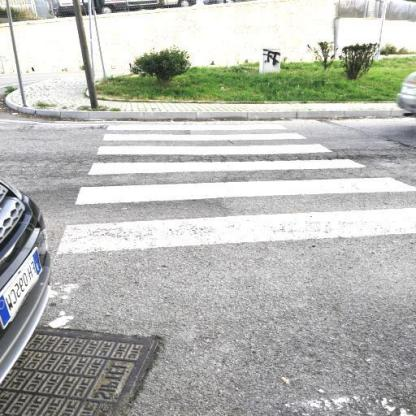crosswalk: (81, 142, 375, 180)
